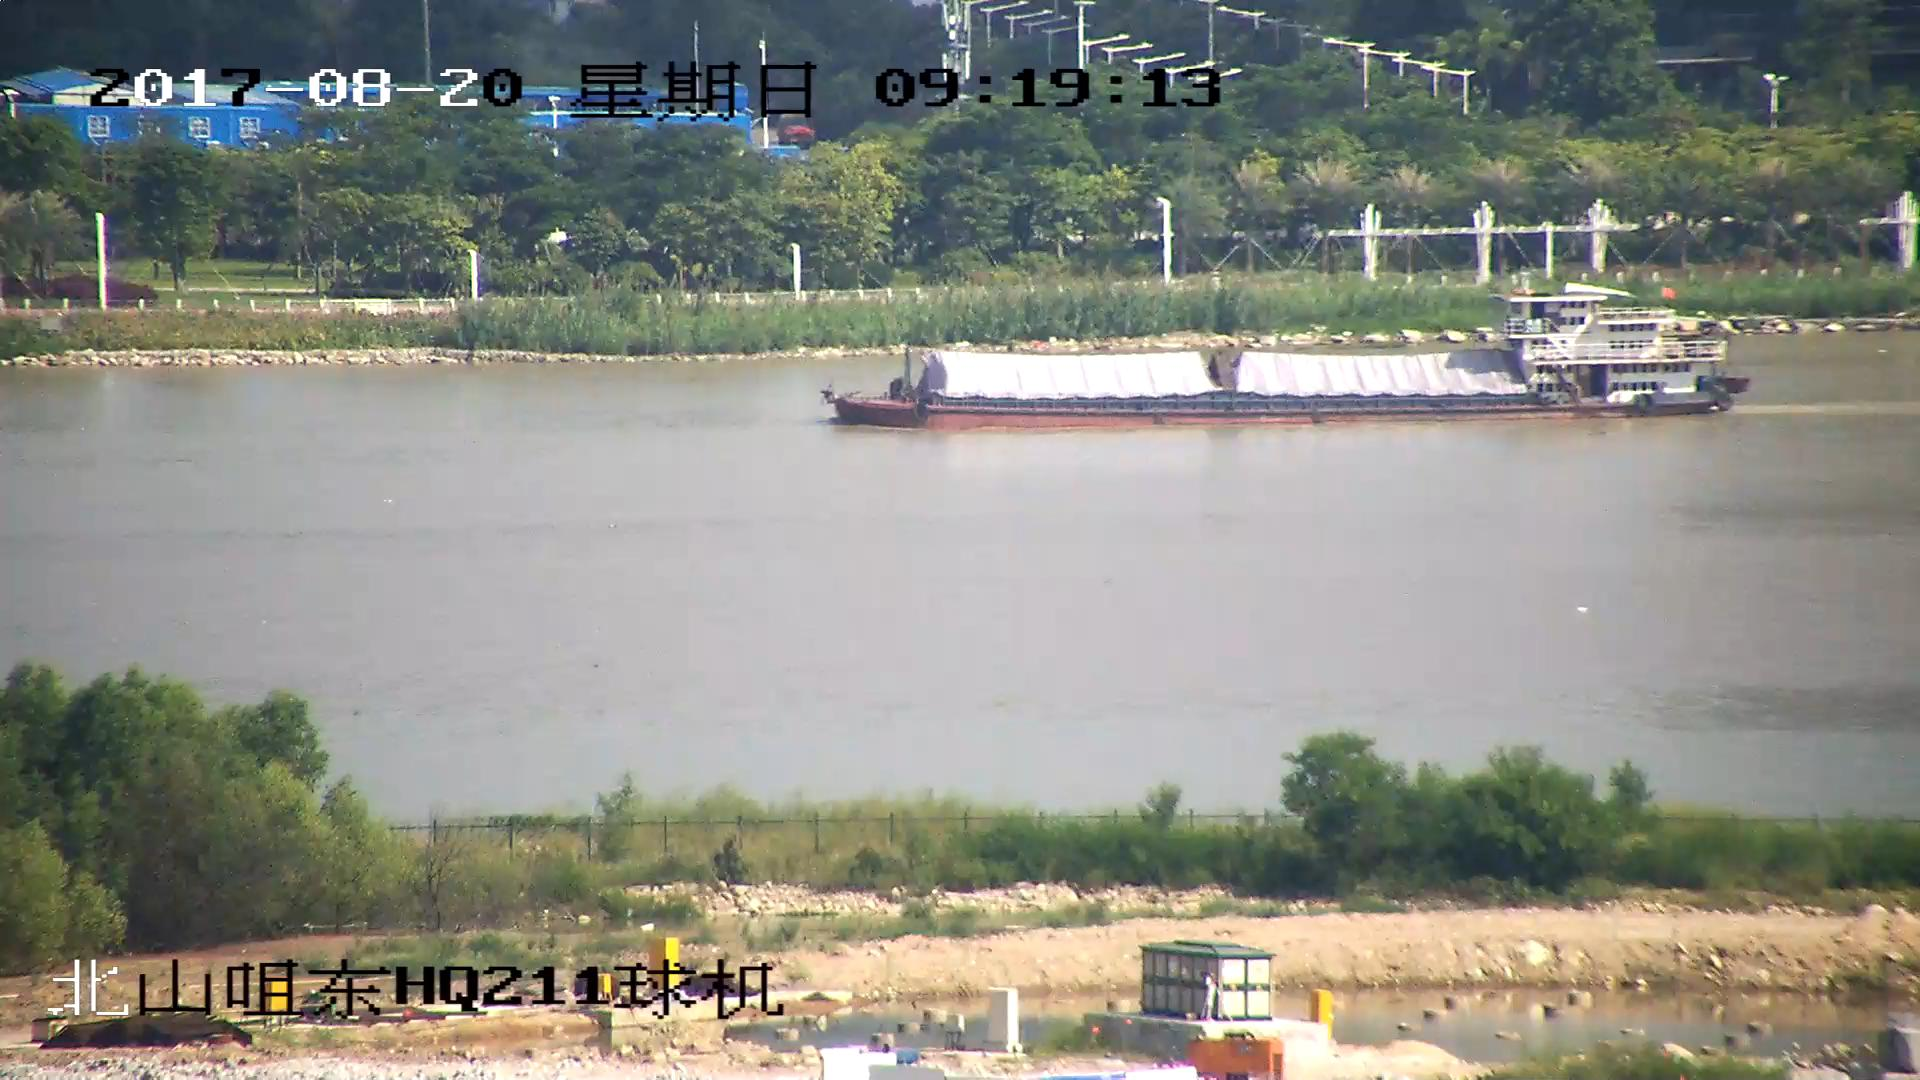general cargo ship: (833, 284, 1749, 432)
